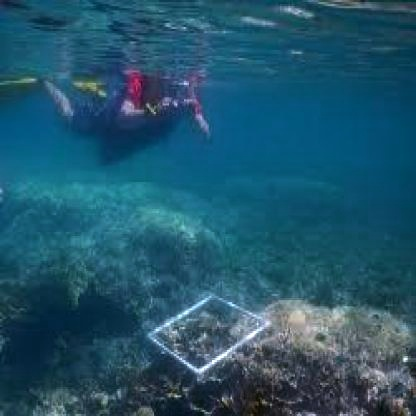metal: (149, 290, 274, 364)
